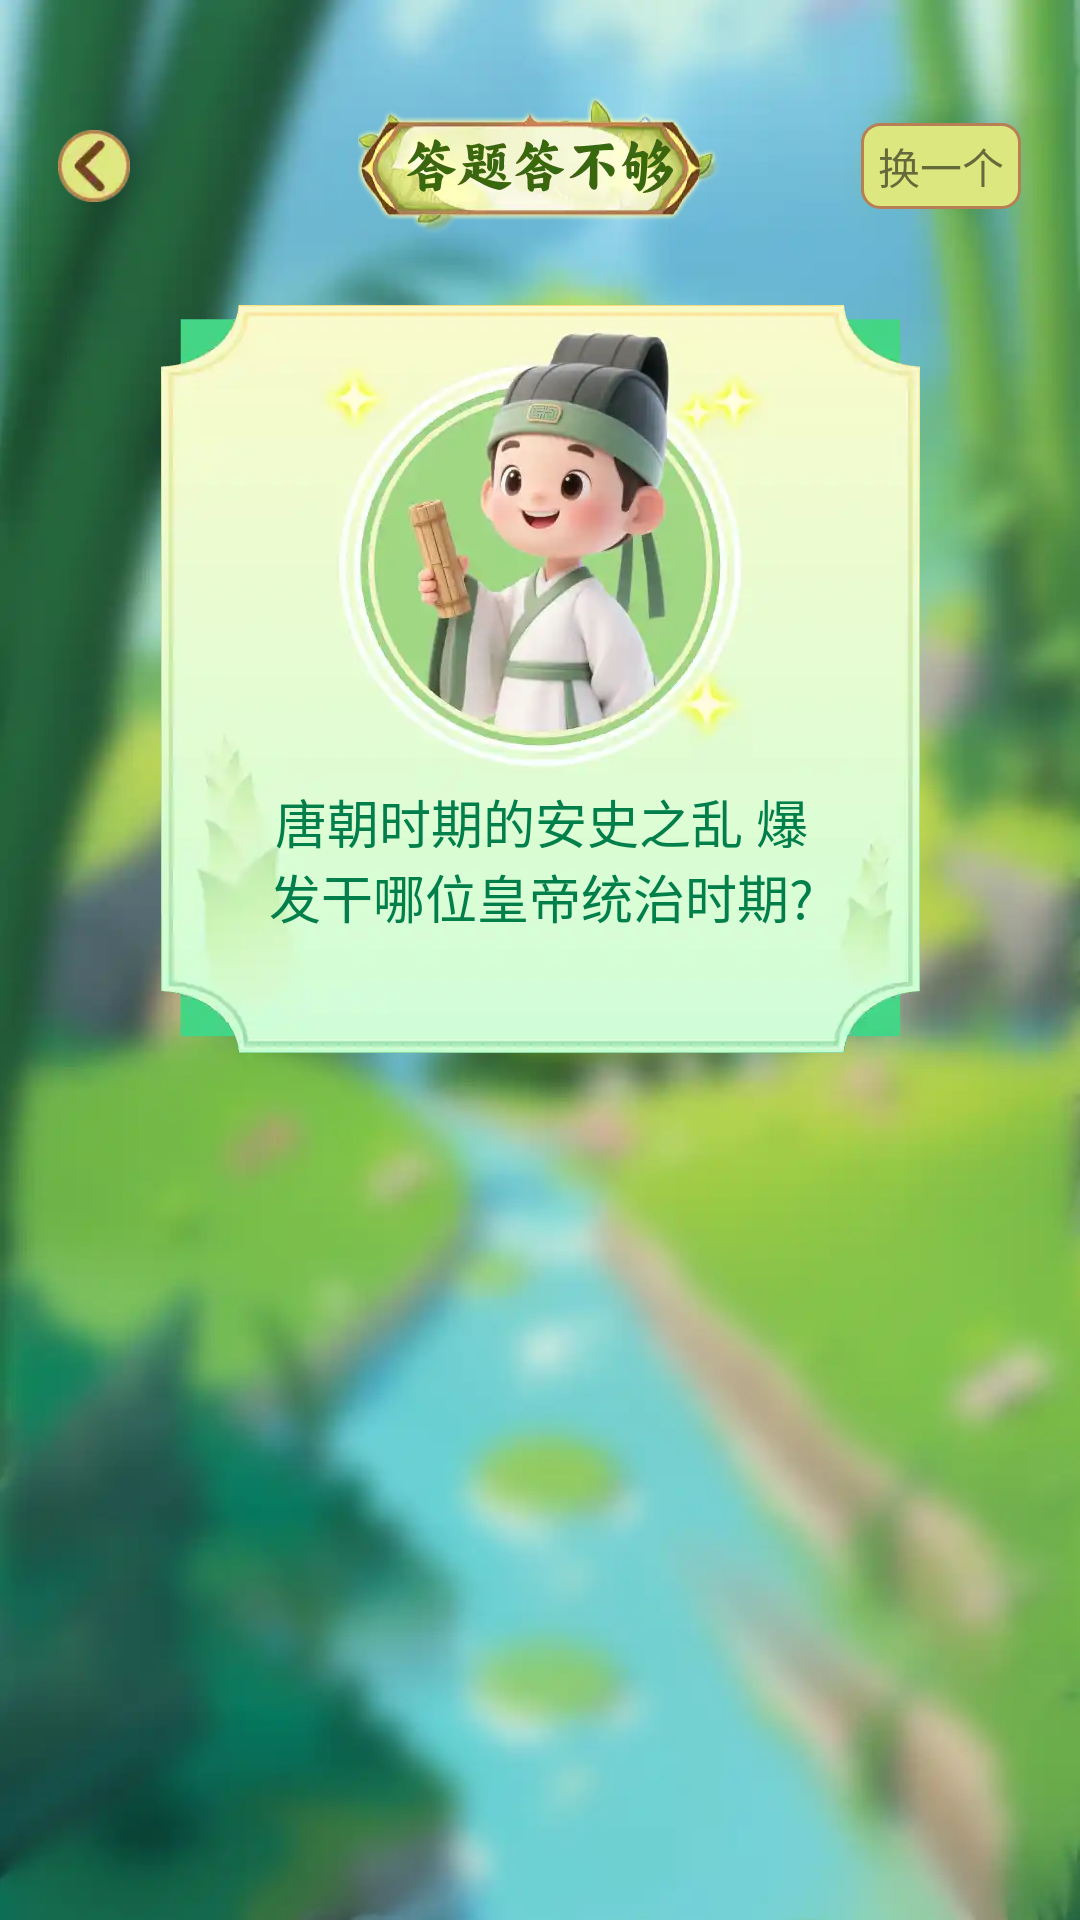

Icon click points for this 1080*1920 phone screenshot, format [x,y]:
back: [94,166]
